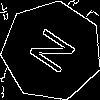N: (26, 26, 85, 81)
